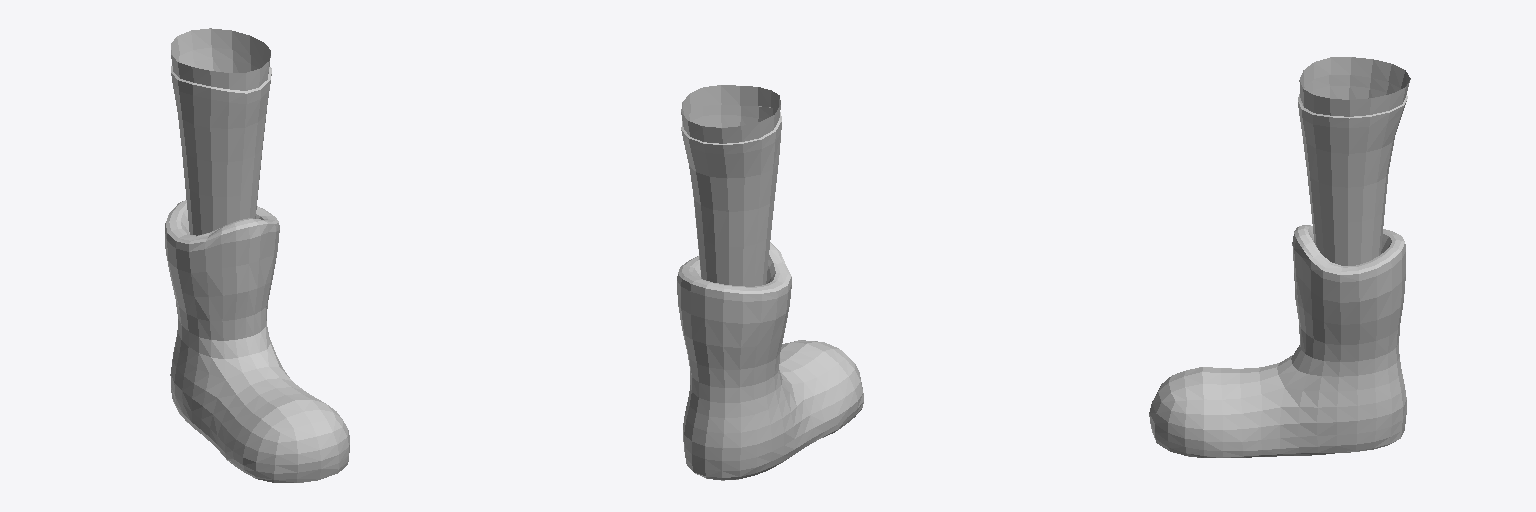
Rendered from DownLegsR.obj.
3 renders of one model, left to right at view 1: azimuth 30°, elevation 25°; view 2: azimuth 150°, elevation 25°; view 3: azimuth 270°, elevation 25°, orthographic.
Parts seen in each view (by area): view 1: Ch46.006_Mesh.006; view 2: Ch46.006_Mesh.006; view 3: Ch46.006_Mesh.006.
Part boxes in pixels (x1,y1,x2,y2): Ch46.006_Mesh.006: (165, 28, 349, 482); Ch46.006_Mesh.006: (677, 85, 863, 480); Ch46.006_Mesh.006: (1149, 57, 1410, 457).
Bounding box in the file's own units: 0.521 × 1.73 × 1.14.